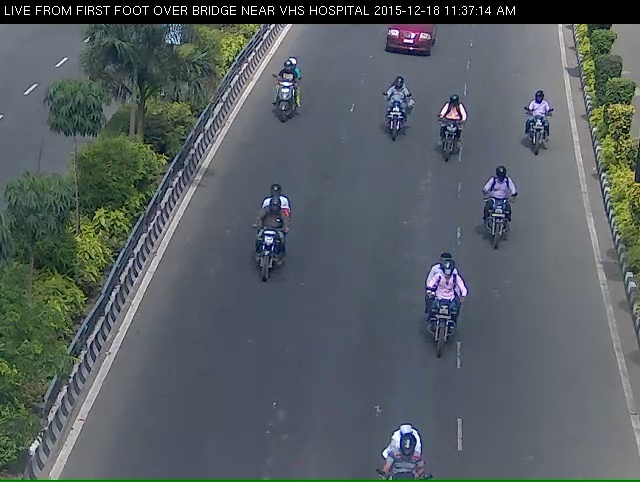Car: (375, 24, 449, 74)
Person: (417, 284, 476, 392), (239, 208, 284, 305), (479, 189, 522, 277), (436, 111, 478, 187), (524, 100, 554, 197), (270, 69, 309, 135), (376, 89, 410, 154)
